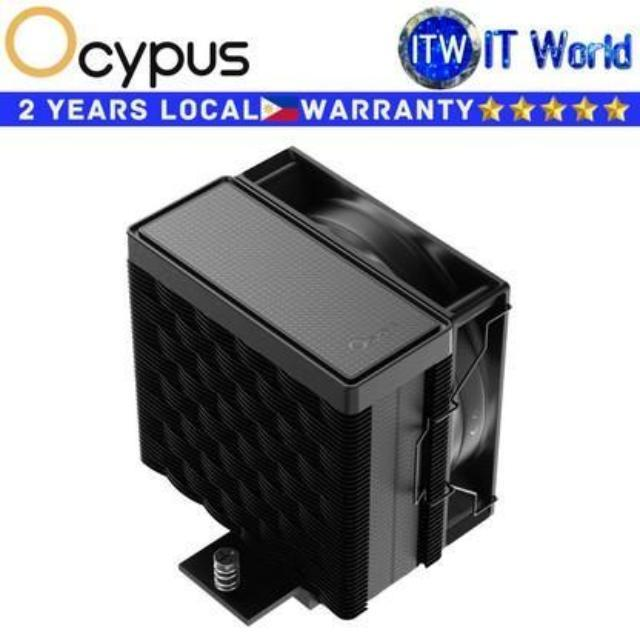CPU_Fan: (124, 144, 516, 616)
